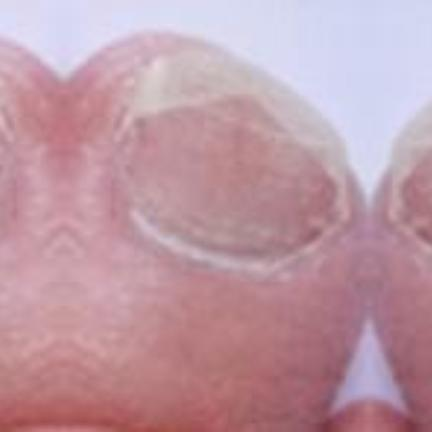Nail: (122, 39, 349, 272), (388, 98, 432, 257), (0, 116, 4, 182)
